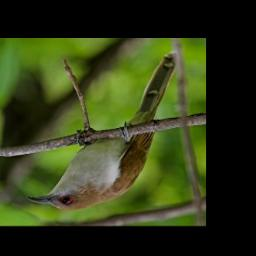Cuckoo: (26, 52, 177, 211)
